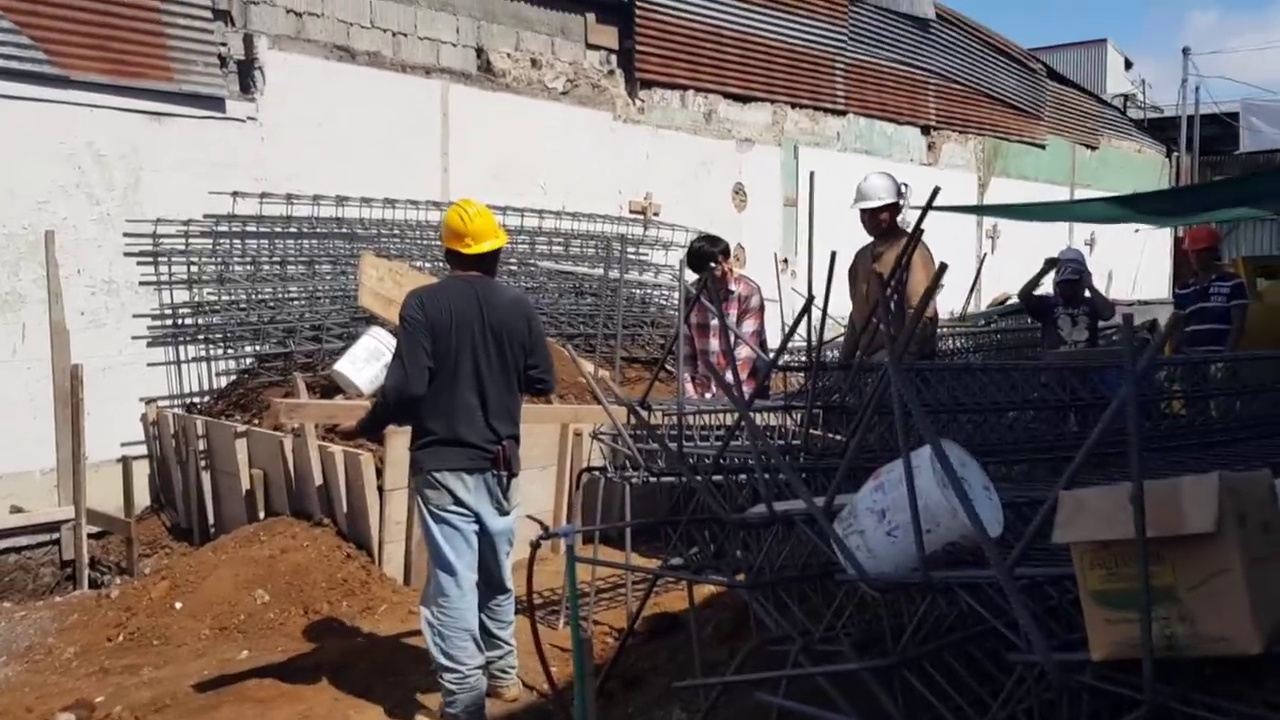helmet: (436, 198, 508, 265), (852, 171, 908, 210), (1048, 249, 1095, 282), (1179, 222, 1223, 251)
helmet-off: (682, 234, 733, 300)
helmet-on: (433, 193, 511, 284), (850, 169, 915, 245), (1048, 251, 1104, 303), (1178, 220, 1221, 275)
person: (318, 185, 553, 717), (827, 173, 944, 355), (675, 232, 771, 398), (1156, 219, 1251, 355), (1037, 252, 1128, 360)
